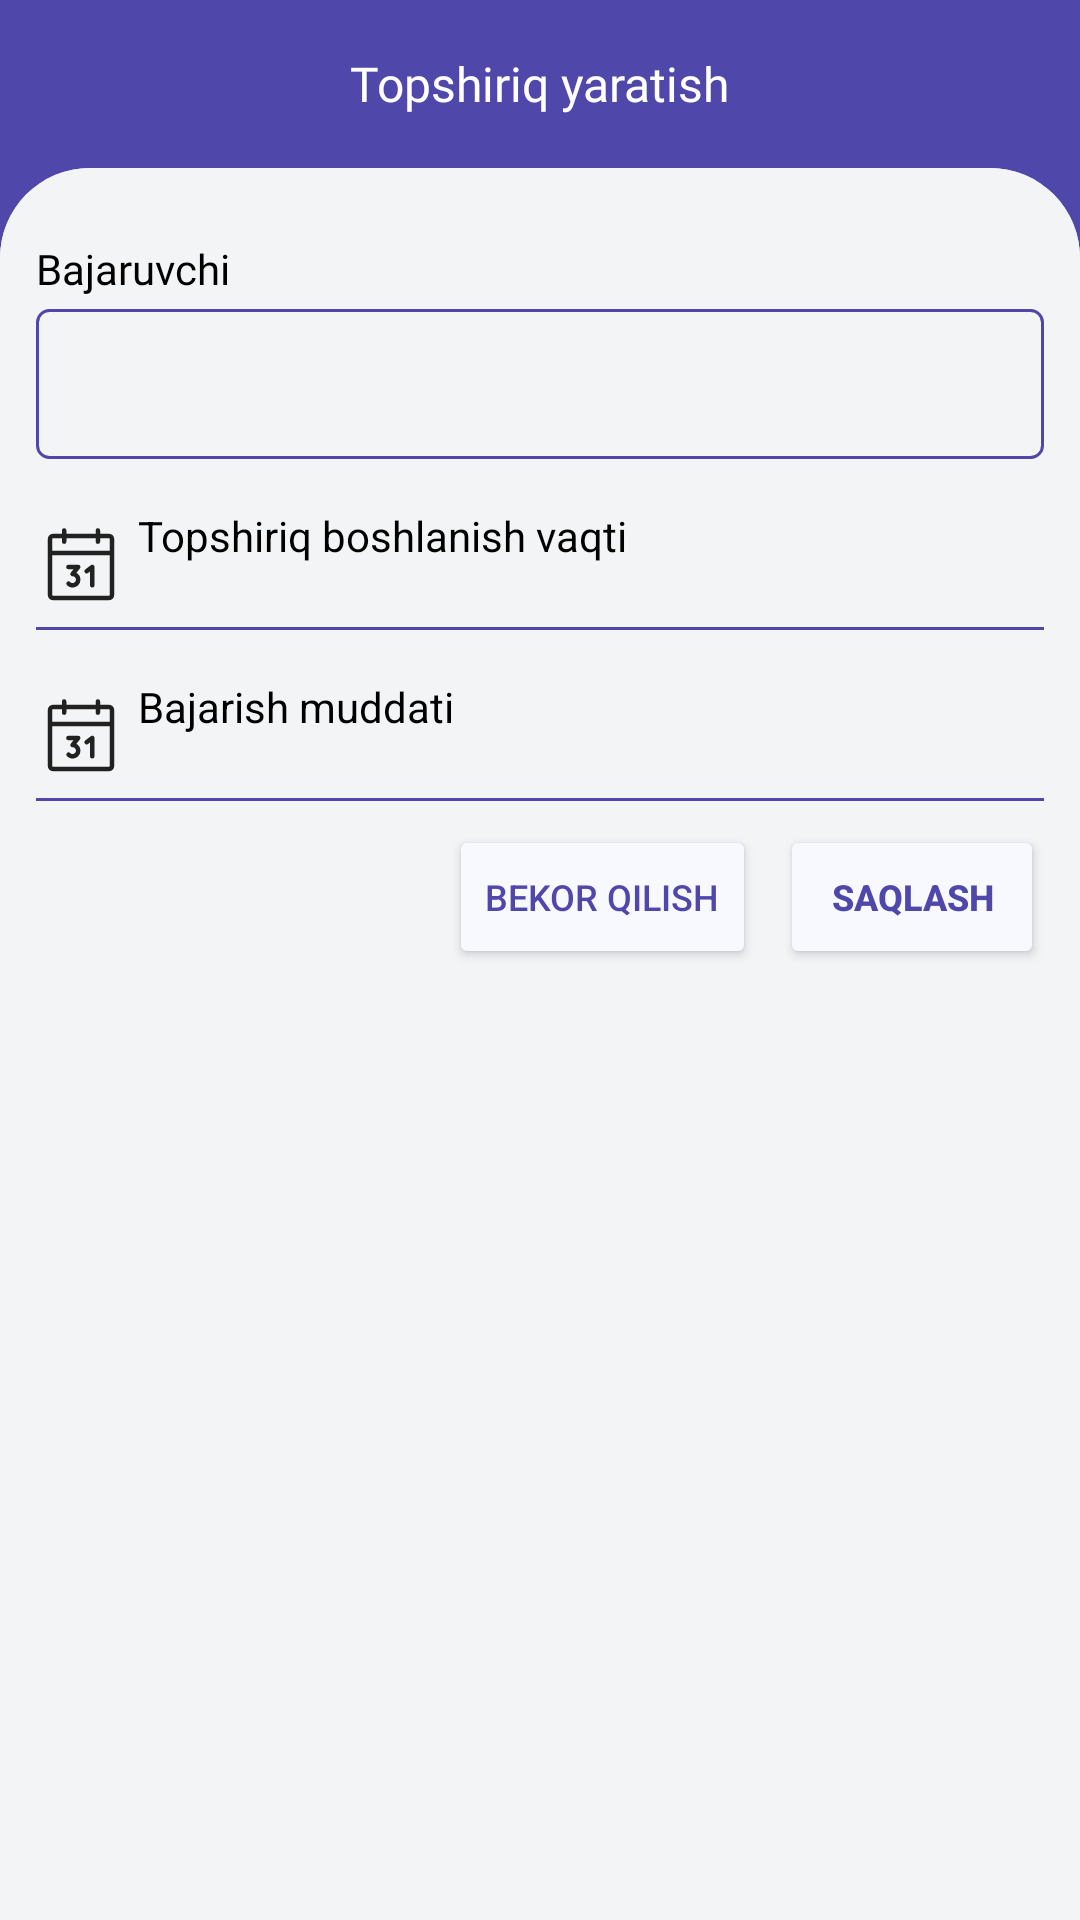

Icons on this 1080x1920 Android screen, each with its box as (x1, y1, x2, y2):
calendar: (47, 528, 115, 601), (47, 699, 115, 772)
